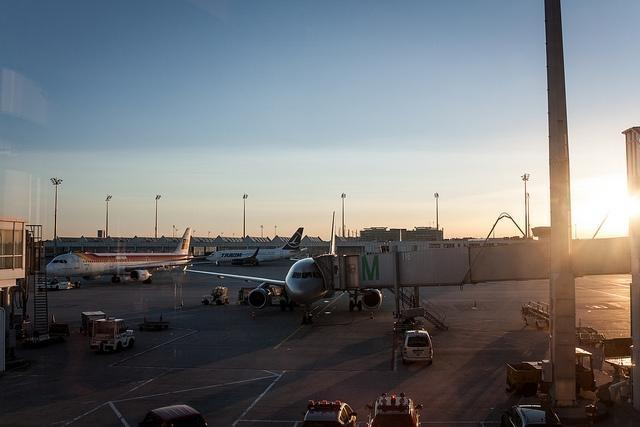car: (365, 392, 424, 427), (138, 404, 208, 427), (302, 400, 356, 427), (400, 330, 434, 365), (502, 406, 546, 426)
truck: (90, 317, 136, 353), (138, 404, 207, 427), (399, 329, 432, 372), (522, 299, 551, 329)
